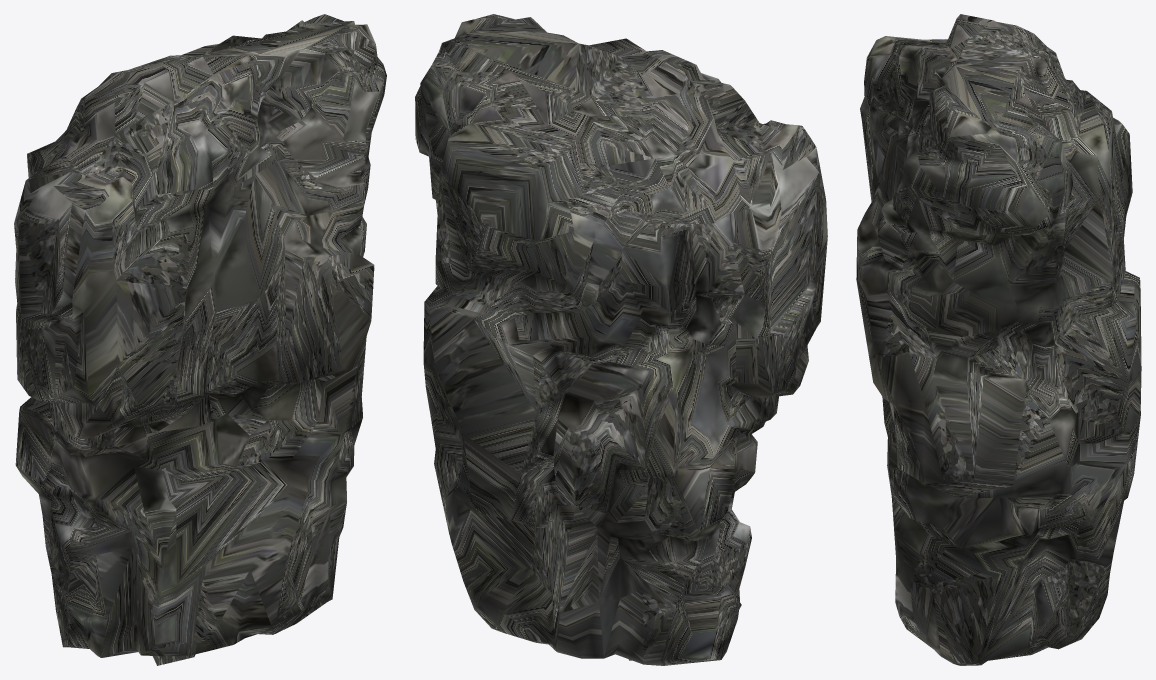
The model's file is Stone.glb.
3 views of the same model, side by side, from view 1: azimuth 30°, elevation 25°; view 2: azimuth 150°, elevation 25°; view 3: azimuth 270°, elevation 25° (orthographic). The views are drawn at different scales.
Parts seen in each view (by area): view 1: Stone; view 2: Stone; view 3: Stone.
Part boxes in pixels (x1,y1,x2,y2): Stone: (14,14,386,665); Stone: (415,14,827,665); Stone: (856,14,1141,665).
Size of the model in its own units: 1.19 by 1.9 by 0.8113.
1 material, 1 textured.
